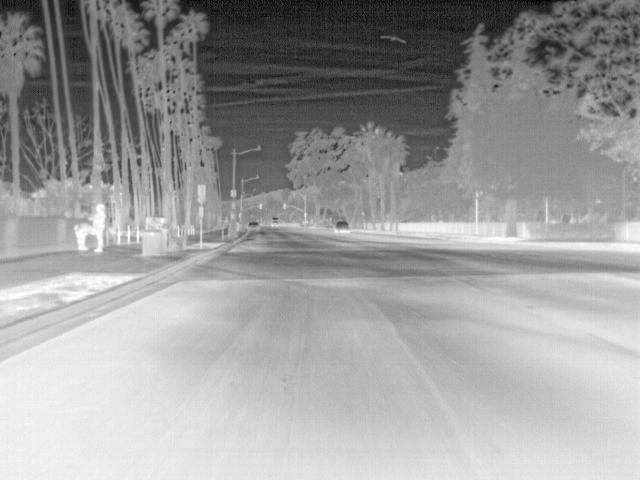car: (336, 220, 351, 232), (247, 220, 261, 232), (272, 216, 282, 225)
person: (92, 201, 108, 252), (73, 220, 95, 252)
